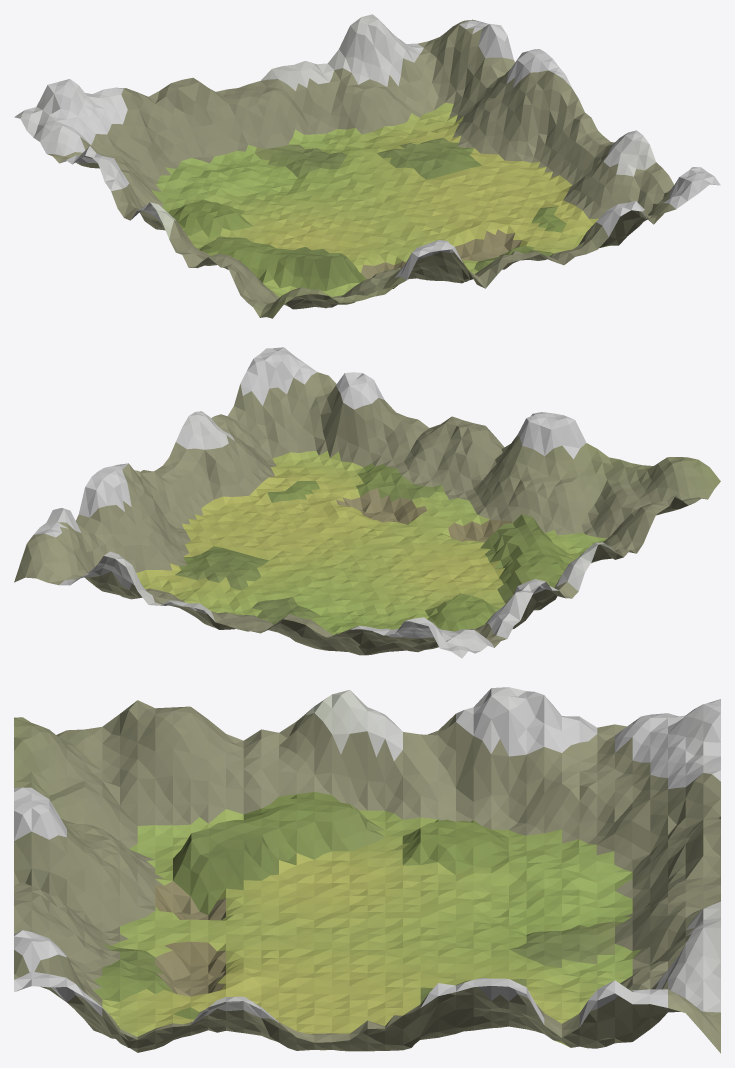
The model's file is ground_1.fbx.
The picture shows the model from 3 angles, top to bottom: view 1: azimuth 30°, elevation 25°; view 2: azimuth 150°, elevation 25°; view 3: azimuth 270°, elevation 25°; orthographic projection. The views are drawn at different scales.
Parts seen in each view (by area): view 1: ground1; view 2: ground1; view 3: ground1.
Boxes of the visible parts, <box> form: ground1: <box>14,14,720,318</box>; ground1: <box>14,347,720,658</box>; ground1: <box>14,687,720,1053</box>.
Size of the model in its own units: 325 by 65.65 by 325.
1 material, 1 textured.
